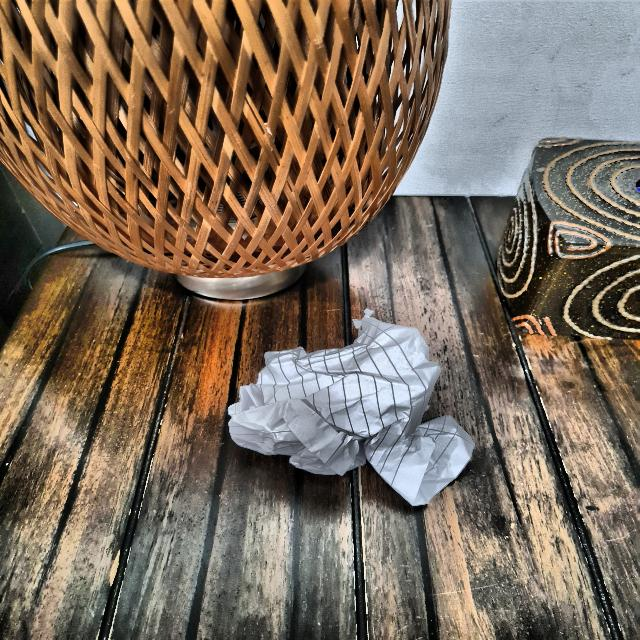Paper: (232, 312, 476, 508)
